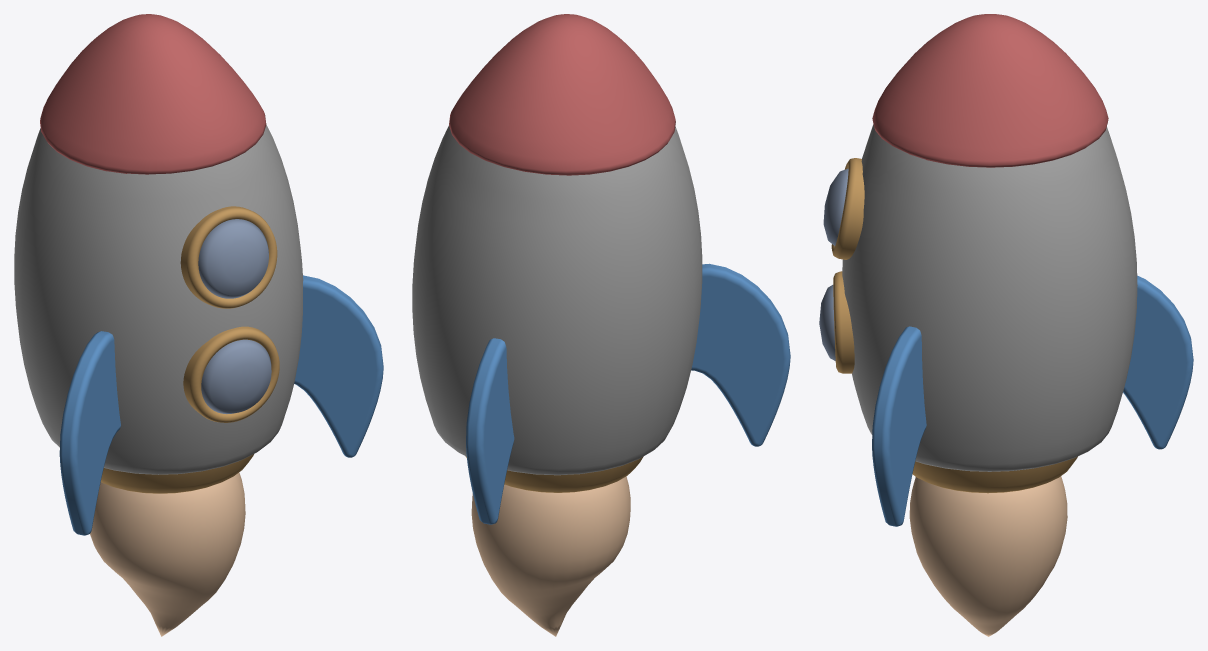
Rendered from rocket_copy.gltf.
3 views of the same model, side by side, from view 1: azimuth 30°, elevation 25°; view 2: azimuth 150°, elevation 25°; view 3: azimuth 270°, elevation 25° (orthographic).
Parts seen in each view (by area): view 1: Body White, Up, Fire_Red, Shape, Cylinder 2 (×2), Rocket, Cylinder (×2), bottom; view 2: Body White, Up, Rocket, Fire_Red, bottom; view 3: Body White, Up, Fire_Red, Rocket, Shape, Cylinder (×2), bottom, Cylinder 2 (×2).
Boxes of the visible parts, left/top/right/bottom form: Body White: left=14, top=125, right=303, bottom=474; Up: left=40, top=14, right=266, bottom=174; Fire_Red: left=90, top=472, right=245, bottom=636; Shape: left=294, top=275, right=383, bottom=457; Cylinder 2 (×2): left=198, top=219, right=271, bottom=414; Rocket: left=59, top=331, right=120, bottom=535; Cylinder (×2): left=180, top=206, right=279, bottom=422; bottom: left=100, top=454, right=253, bottom=493; Body White: left=412, top=126, right=702, bottom=475; Up: left=449, top=14, right=675, bottom=175; Rocket: left=466, top=263, right=790, bottom=524; Fire_Red: left=471, top=476, right=630, bottom=636; bottom: left=465, top=456, right=643, bottom=492; Body White: left=842, top=124, right=1137, bottom=471; Up: left=872, top=14, right=1108, bottom=167; Fire_Red: left=909, top=476, right=1067, bottom=636; Rocket: left=1123, top=275, right=1193, bottom=449; Shape: left=872, top=326, right=926, bottom=526; Cylinder (×2): left=831, top=158, right=864, bottom=373; bottom: left=912, top=456, right=1077, bottom=493; Cylinder 2 (×2): left=819, top=168, right=848, bottom=360.
Size of the model in its own units: 1.37 by 2.43 by 1.34.
